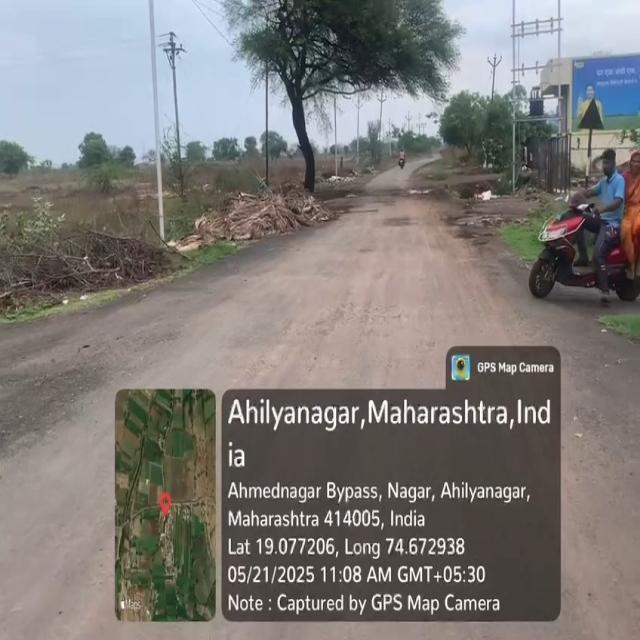damage surface: (0, 348, 110, 434)
pothole: (444, 212, 491, 257)
